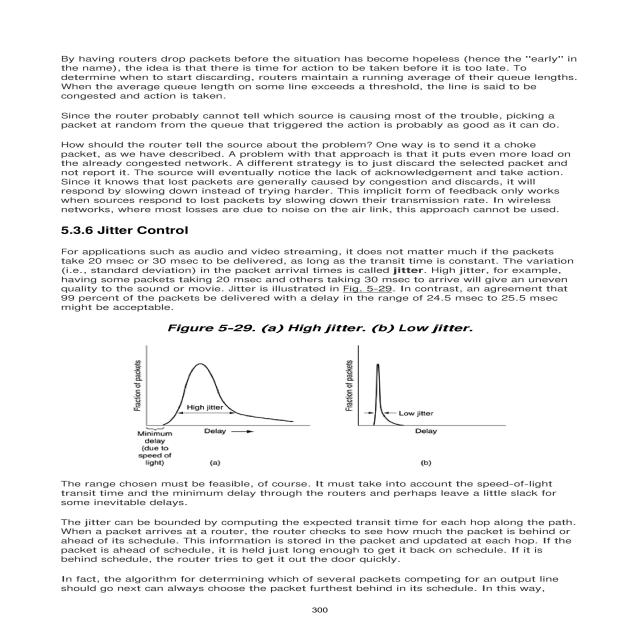diagram: (90, 321, 530, 471)
